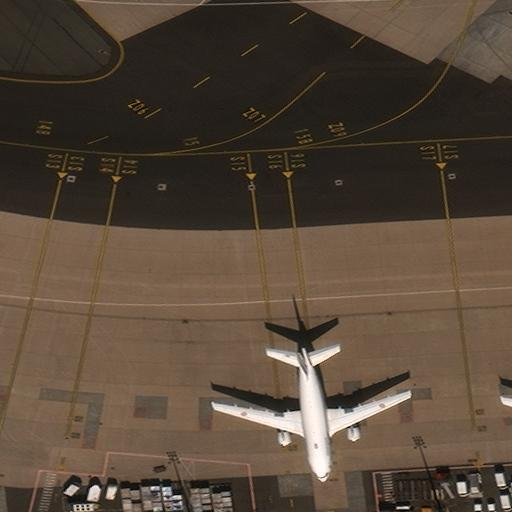Large Civil Transport: (211, 347, 410, 480)
